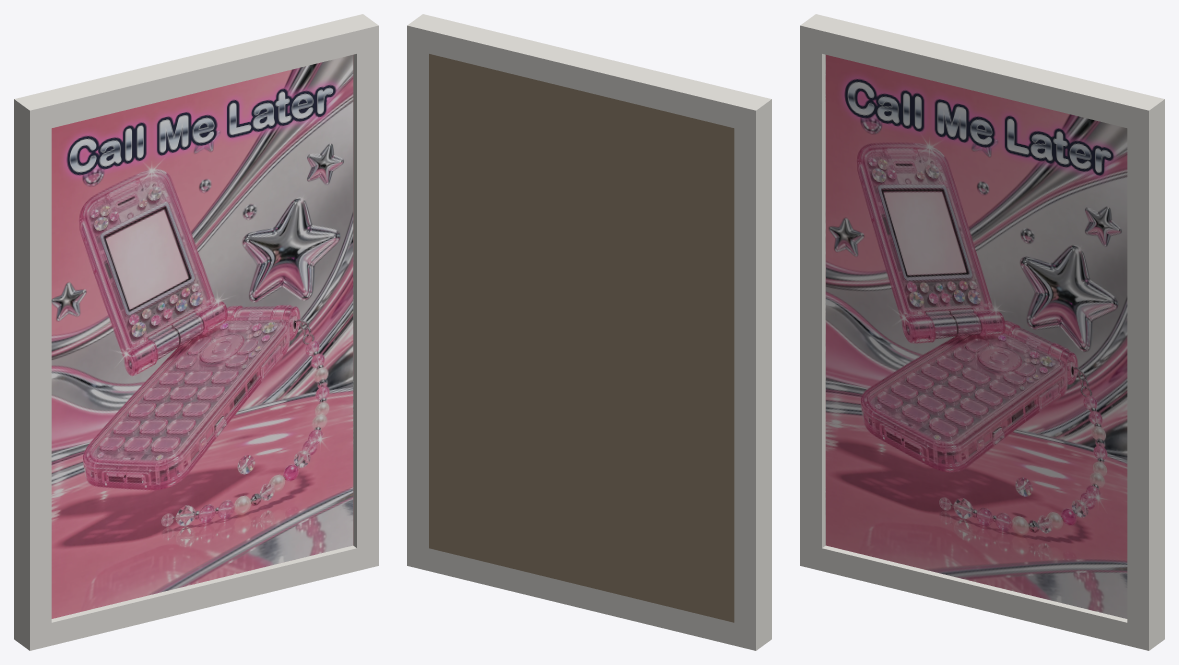
File: poster-call-me-later.glb
The picture shows the model from 3 angles, left to right: view 1: azimuth 30°, elevation 25°; view 2: azimuth 150°, elevation 25°; view 3: azimuth 330°, elevation 25°; orthographic projection.
Visible parts, largest first — view 1: poster-call-me-later; view 2: poster-call-me-later; view 3: poster-call-me-later.
Boxes of the visible parts, left/top/right/bottom form: poster-call-me-later: left=14, top=14, right=378, bottom=650; poster-call-me-later: left=407, top=14, right=771, bottom=650; poster-call-me-later: left=800, top=14, right=1164, bottom=650.
Bounding box in the file's own units: 0.319 × 0.472 × 0.025.
Materials: 3 (1 with a texture image).
